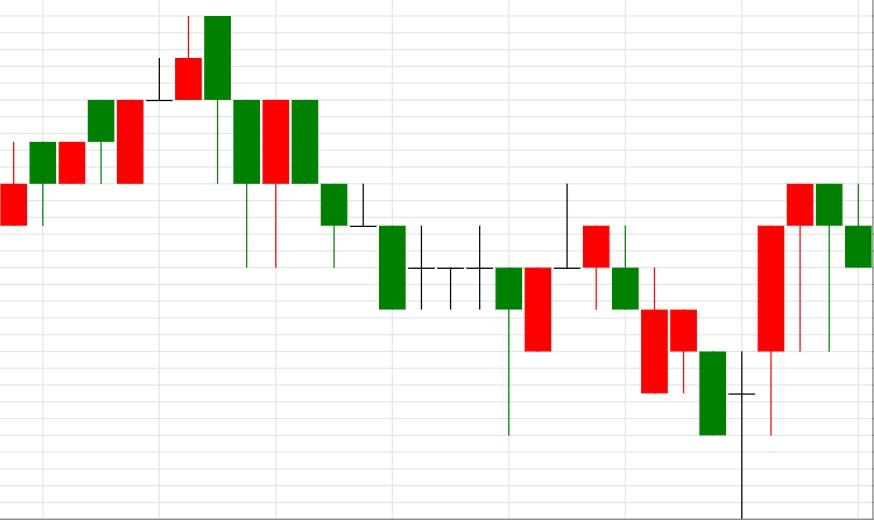bearish_engulfing_fall: (0, 15, 231, 227)
hammer_rise: (203, 16, 523, 436)
hanging_man_fall: (727, 184, 844, 519)
